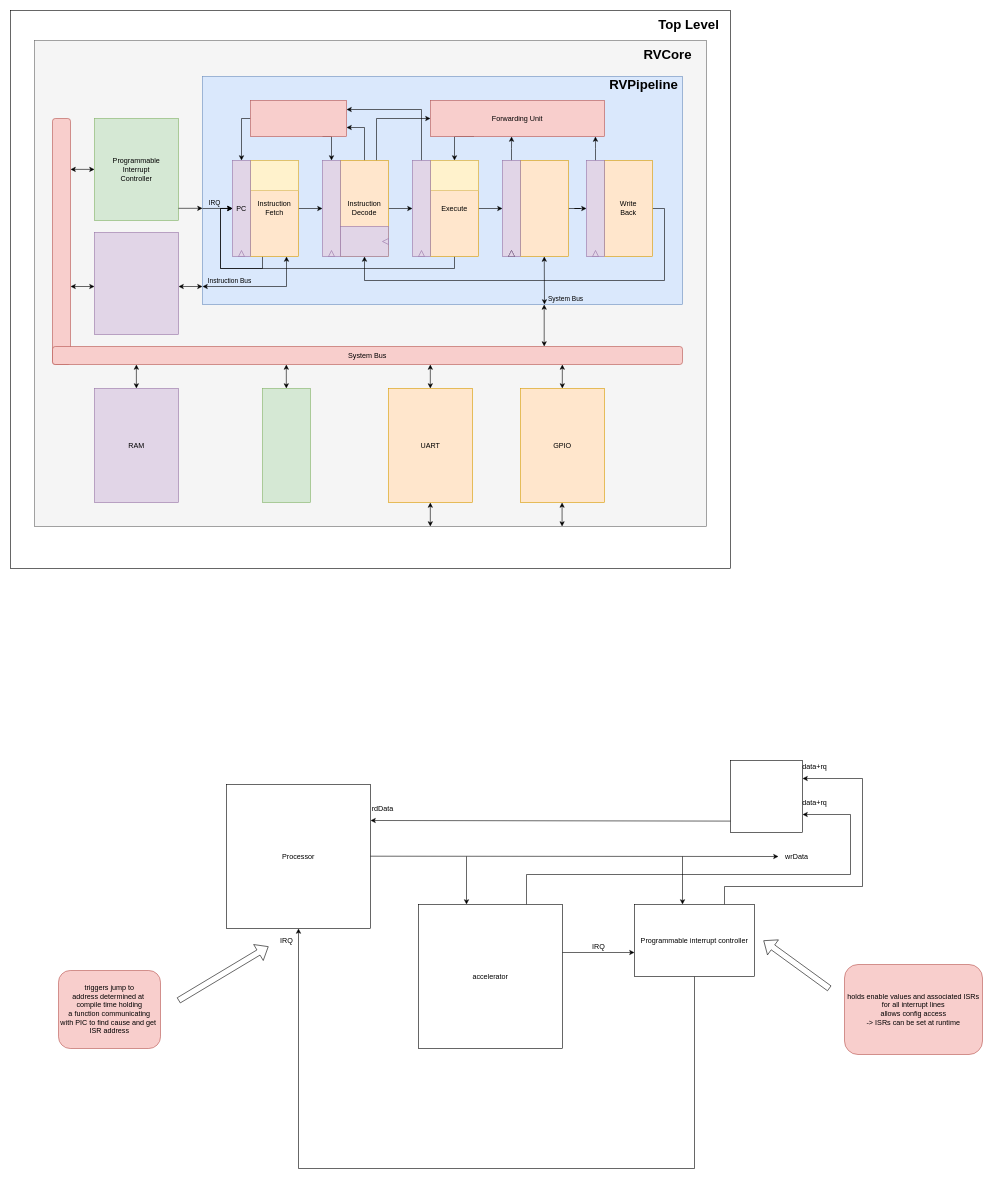
The diagram is 993 pixels wide and 1184 high, and some of its shapes have lost their labels. Each missing label, with the centre of its shape:
ALU: [454,175]
Branch Prediction: [274,175]
busArbiter: [766,796]
Hazard Detection Unit: [298,118]
Instruction ROM: [136,283]
Memory: [544,208]
Register File: [364,241]
System Information: [286,445]
